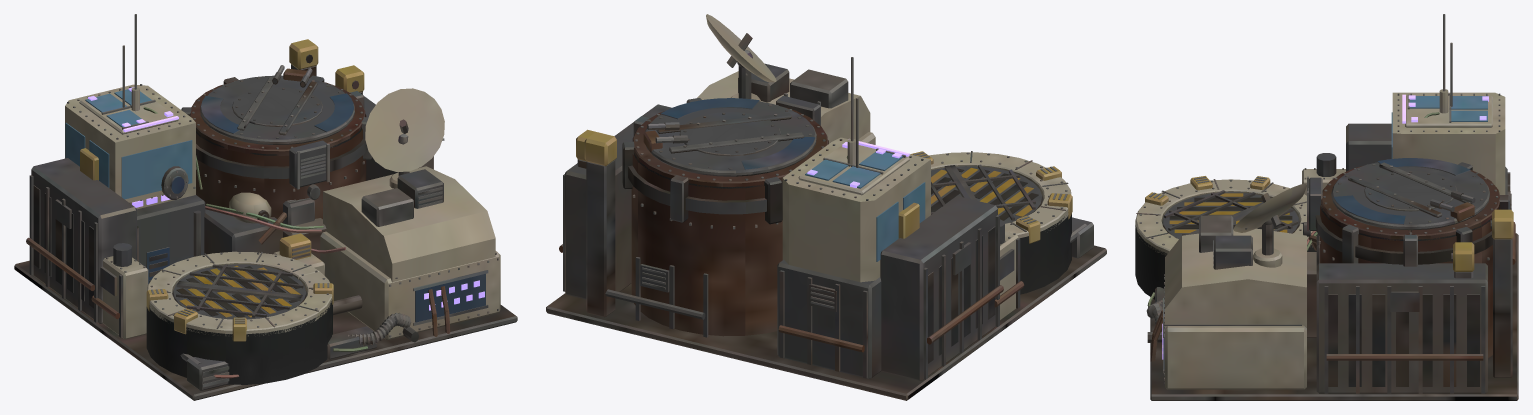
Rendered from space-platform-hub.glb.
The picture shows the model from 3 angles, left to right: view 1: azimuth 30°, elevation 25°; view 2: azimuth 150°, elevation 25°; view 3: azimuth 270°, elevation 25°; orthographic projection. The views are drawn at different scales.
Visible parts, largest first — view 1: body, anim_lid_hub_upper, anim_lid_hub_lower_sw, anim_lid_hub_lower_ne, anim_glow_cockpit; view 2: body, anim_lid_hub_upper, anim_lid_hub_lower_sw, anim_lid_hub_lower_ne; view 3: body, anim_lid_hub_upper, anim_lid_hub_lower_sw, anim_lid_hub_lower_ne.
Part boxes in pixels (bbox=[...]): body: bbox=[14, 14, 517, 400]; anim_lid_hub_upper: bbox=[200, 65, 354, 144]; anim_lid_hub_lower_sw: bbox=[173, 283, 303, 319]; anim_lid_hub_lower_ne: bbox=[176, 264, 306, 299]; anim_glow_cockpit: bbox=[88, 87, 178, 207]; body: bbox=[546, 14, 1106, 400]; anim_lid_hub_upper: bbox=[643, 98, 816, 176]; anim_lid_hub_lower_sw: bbox=[950, 164, 1042, 223]; anim_lid_hub_lower_ne: bbox=[931, 165, 970, 214]; body: bbox=[1135, 14, 1518, 400]; anim_lid_hub_upper: bbox=[1331, 158, 1489, 230]; anim_lid_hub_lower_sw: bbox=[1163, 190, 1271, 238]; anim_lid_hub_lower_ne: bbox=[1195, 208, 1298, 233].
Bounding box in the file's own units: 7.35 × 5.49 × 7.12.
2 materials, 2 textured.
